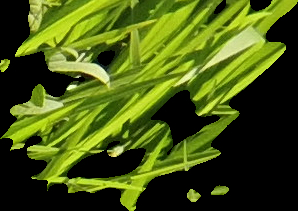grass: (1, 1, 296, 209)
